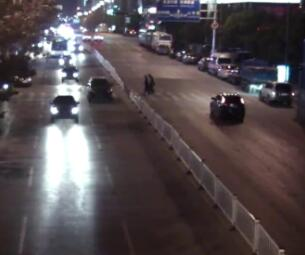bus: (144, 29, 173, 55), (50, 31, 75, 54), (137, 26, 149, 46)
car: (238, 56, 276, 92), (256, 80, 295, 108), (209, 93, 246, 121), (47, 94, 82, 121), (85, 75, 113, 102), (206, 52, 233, 74), (10, 70, 34, 86), (217, 61, 235, 80), (60, 64, 79, 81), (26, 45, 45, 61), (58, 53, 75, 67), (182, 50, 195, 64), (196, 56, 207, 72), (70, 41, 84, 53), (93, 32, 104, 41), (81, 32, 92, 41), (174, 48, 181, 61)
